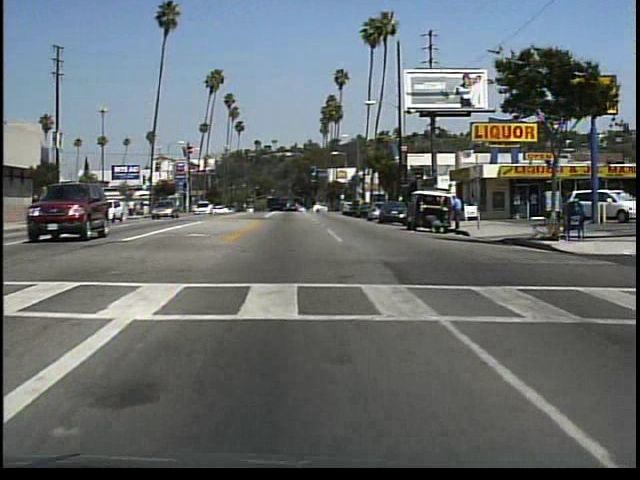person: (450, 191, 469, 235), (426, 214, 445, 235), (511, 188, 522, 223), (529, 188, 541, 219), (39, 193, 43, 224)
